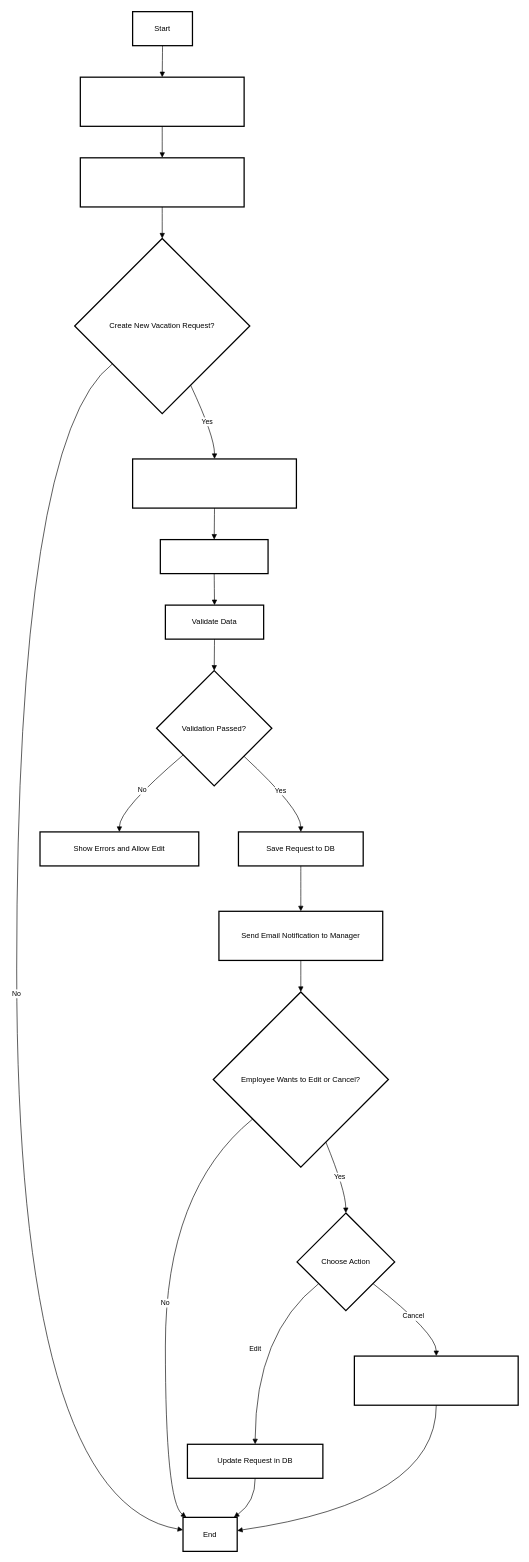
Some shapes in this 529 by 1562 pixel diagram are drawn without their labels. The centre of each missing label's shape, as x and y in pixels:
"Employee Login via Portal" goes at (161,101).
"Select Vacation Type + Dates + Description" goes at (214,483).
"Submit Request" goes at (213,556).
"Update DB and Restore Balance" goes at (435,1380).
"VTS Displays Previous Requests" goes at (161,182).
